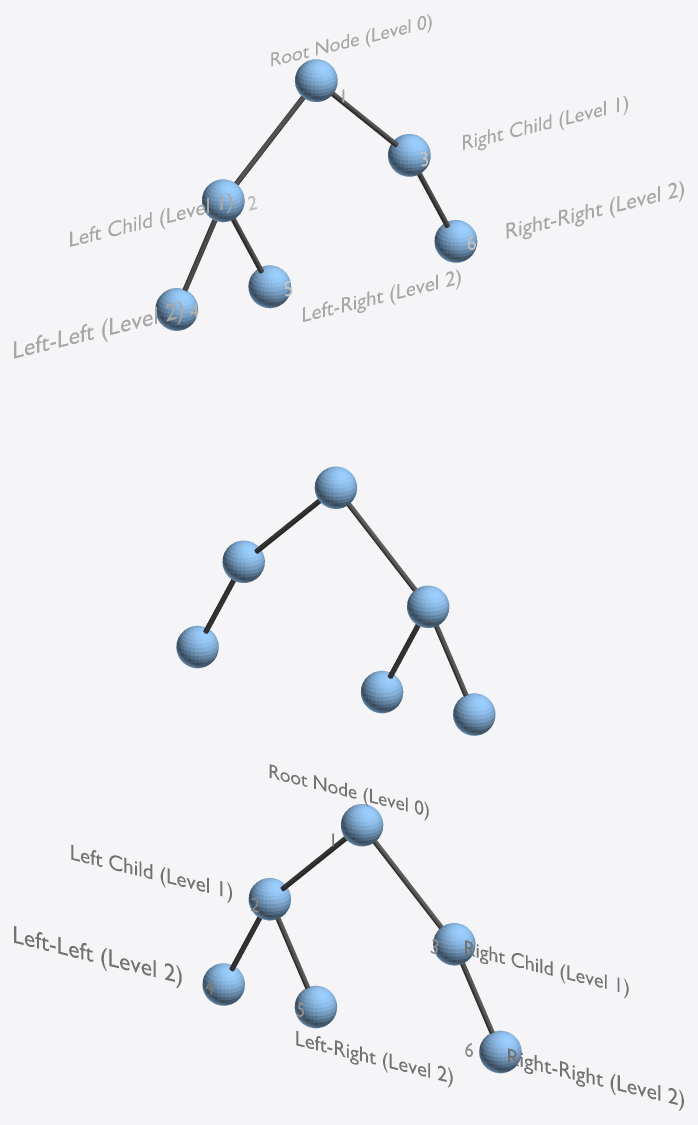
File: binary tree.glb
The picture shows the model from 3 angles, top to bottom: view 1: azimuth 30°, elevation 25°; view 2: azimuth 150°, elevation 25°; view 3: azimuth 330°, elevation 25°; orthographic projection.
Parts seen in each view (by area): view 1: root.002, left_right.002, right_right.002, right.002, left.002, left_left.002, Role_right_right.002, Role_left_left.002, Role_right.002, Role_left_right.002, Role_left.002, Role_root.002 (+1 smaller); view 2: left_left.002, root.002, left.002, left_right.002, right.002, right_right.002, root_to_left.002; view 3: root.002, left_right.002, left_left.002, left.002, right_right.002, right.002, Role_right_right.002, Role_left_left.002, Role_right.002, Role_left.002, Role_left_right.002, Role_root.002 (+1 smaller).
Boxes of the visible parts, <box> form: root.002: <box>295,59,337,101</box>; left_right.002: <box>248,265,291,308</box>; right_right.002: <box>434,220,477,262</box>; right.002: <box>388,134,430,176</box>; left.002: <box>202,179,244,222</box>; left_left.002: <box>155,288,197,330</box>; Role_right_right.002: <box>506,181,683,239</box>; Role_left_left.002: <box>14,301,183,358</box>; Role_right.002: <box>463,96,627,150</box>; Role_left_right.002: <box>303,269,460,321</box>; Role_left.002: <box>70,193,232,246</box>; Role_root.002: <box>271,14,431,66</box>; left_left.002: <box>453,693,495,735</box>; root.002: <box>314,466,356,508</box>; left.002: <box>407,585,449,627</box>; left_right.002: <box>360,670,403,713</box>; right.002: <box>222,540,264,582</box>; right_right.002: <box>176,625,218,668</box>; root_to_left.002: <box>347,503,416,591</box>; root.002: <box>341,804,383,846</box>; left_right.002: <box>294,985,337,1028</box>; left_left.002: <box>202,963,244,1005</box>; left.002: <box>248,878,290,920</box>; right_right.002: <box>479,1030,521,1073</box>; right.002: <box>433,923,475,965</box>; Role_right_right.002: <box>508,1048,683,1110</box>; Role_left_left.002: <box>14,926,181,987</box>; Role_right.002: <box>465,940,628,998</box>; Role_left.002: <box>71,844,231,902</box>; Role_left_right.002: <box>296,1030,452,1087</box>; Role_root.002: <box>269,764,428,820</box>.
Bounding box in the file's own units: 14.47 × 5.75 × 1.45.
